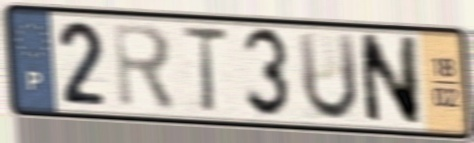2: (57, 18, 115, 109)
3: (239, 25, 296, 122)
N: (356, 31, 423, 128)
R: (110, 19, 179, 115)
T: (177, 25, 232, 116)
U: (295, 29, 361, 124)
